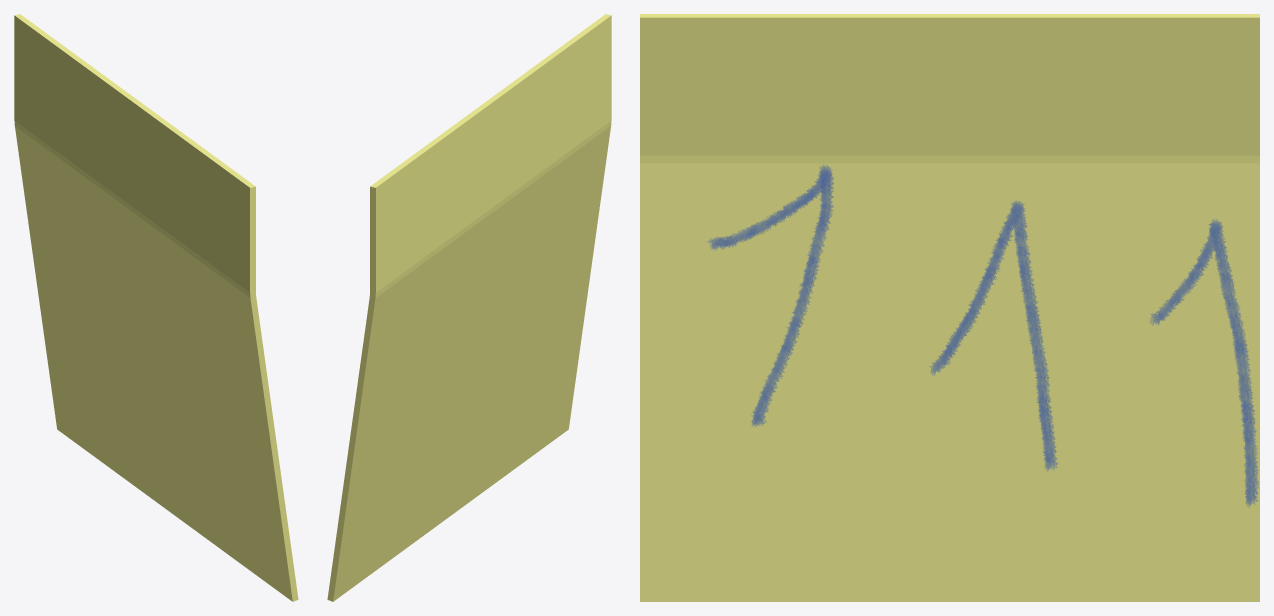
The model's file is postit.fbx.
3 renders of one model, left to right at view 1: azimuth 30°, elevation 25°; view 2: azimuth 150°, elevation 25°; view 3: azimuth 270°, elevation 25°, orthographic. The views are drawn at different scales.
Parts seen in each view (by area): view 1: Post-It; view 2: Post-It; view 3: Post-It.
Boxes of the visible parts, <box> form: Post-It: <box>14,14,298,601</box>; Post-It: <box>327,14,611,601</box>; Post-It: <box>640,14,1259,601</box>.
Bounding box in the file's own units: 4.74 × 39.75 × 40.
